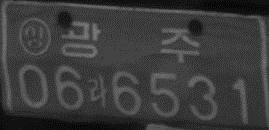0: (17, 63, 49, 109)
1: (227, 75, 256, 125)
3: (187, 75, 217, 123)
5: (149, 72, 181, 117)
6: (110, 69, 141, 116), (53, 65, 83, 111)
광주_D: (60, 19, 200, 63)
라: (86, 72, 109, 109)
영: (18, 16, 51, 56)
